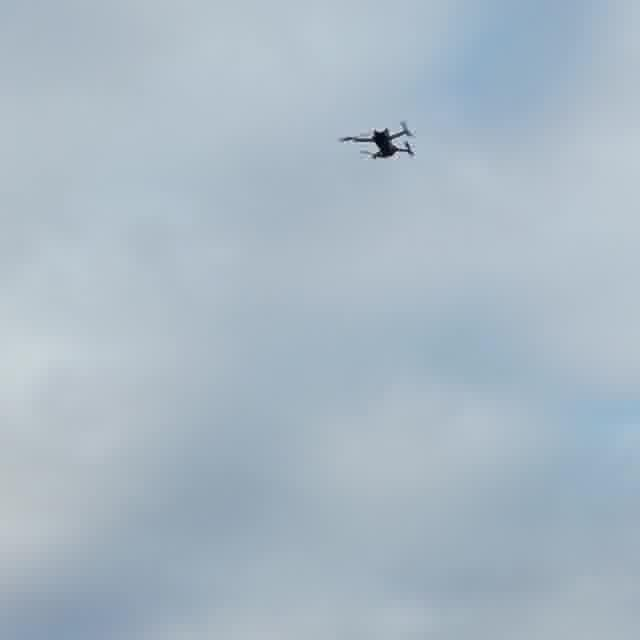Drohne: (340, 121, 414, 159)
